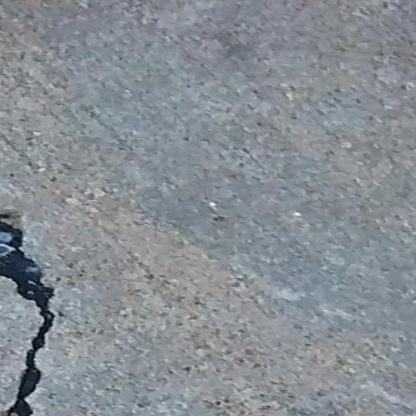Cracks: (0, 206, 60, 416)
